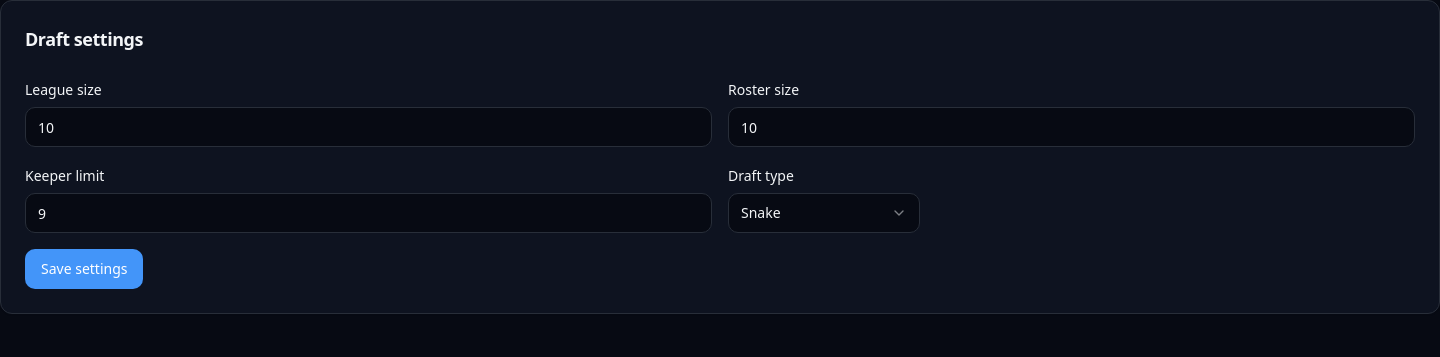
Test: DraftSettingsCard › rejects keeper_limit > roster_size via zod and does not save
Replace the text in the number field with test id "ds-keeper" with "11" at (368, 213), box [25,193,712,233]
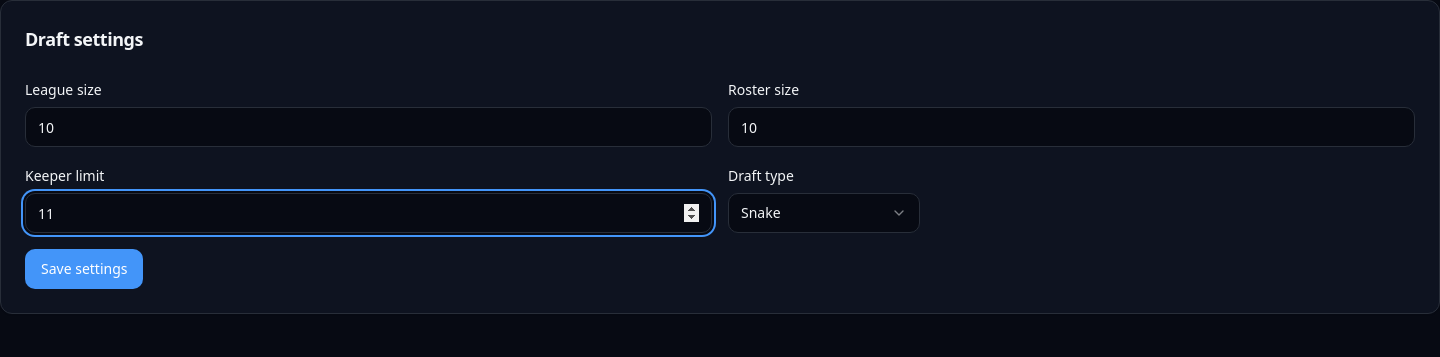
Click the button with test id "ds-save" at (84, 269), box [25,249,144,289]
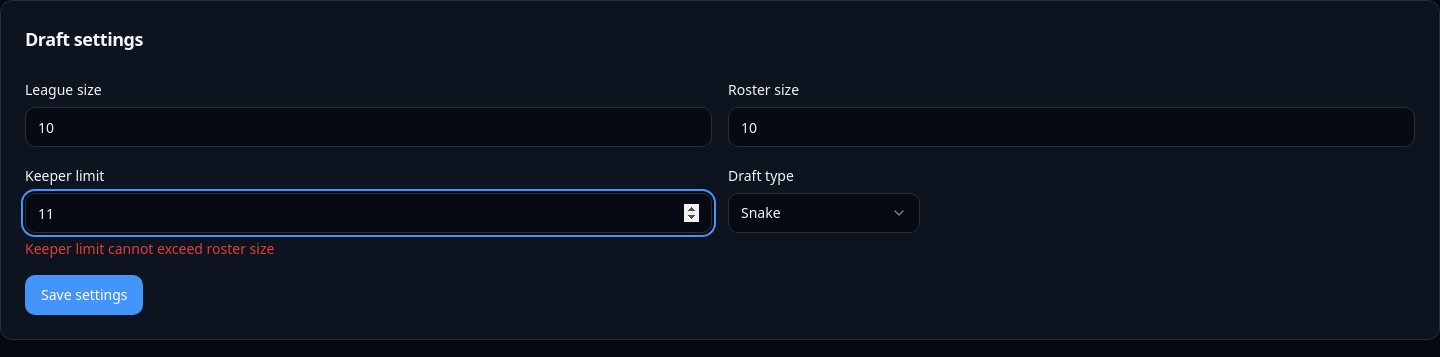
Now the text "Keeper limit cannot exceed roster size" is shown, box [25,239,274,258]
